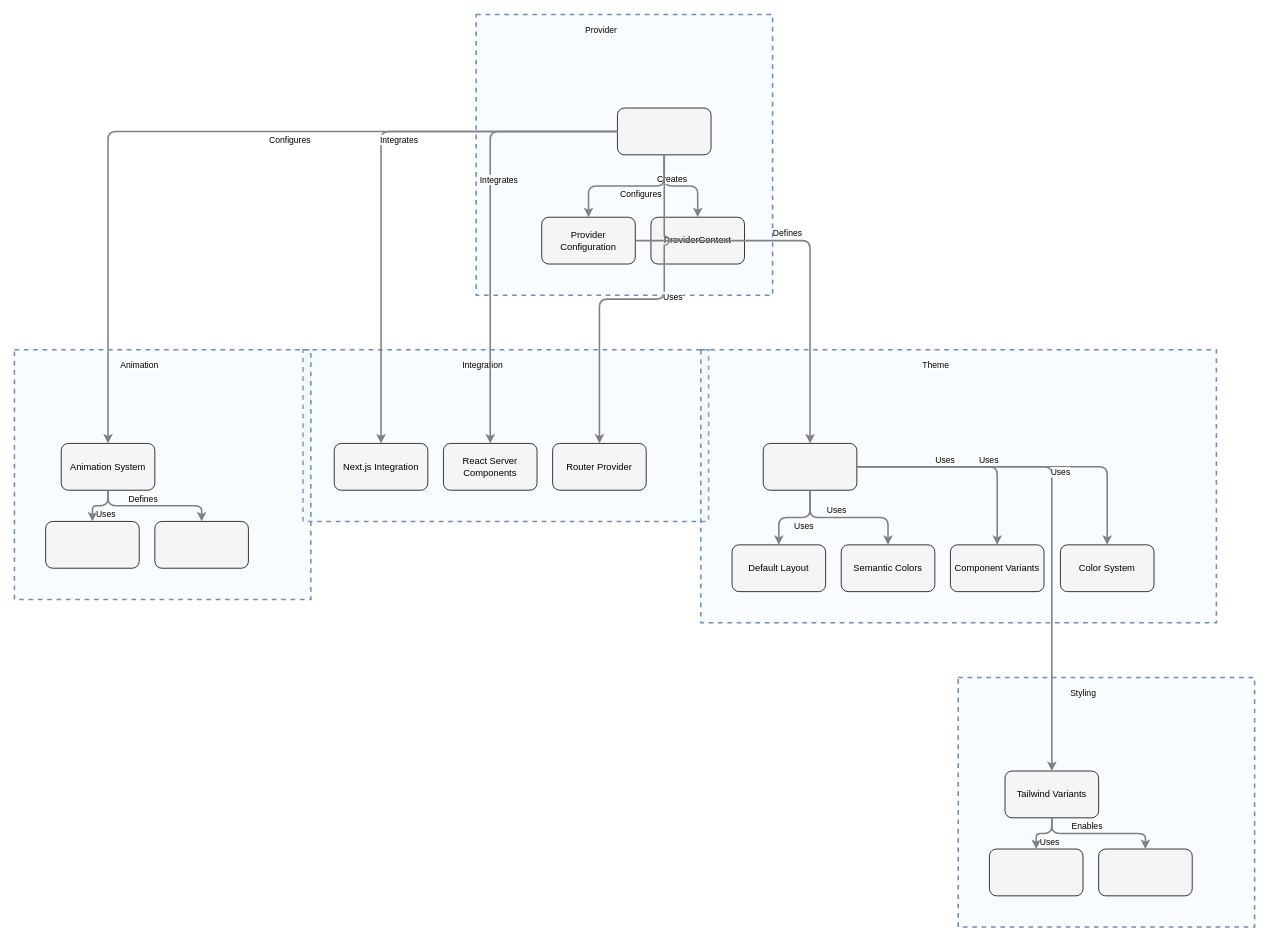
Image size: 1268x941. Some labels were removed from this diagram. The shapes that lost their labels are listed below. From the top down, each one's centre as x and y in pixels, then its label:
the point at 664,131: HeroUIProvider
the point at 809,466: Theme System
the point at 92,544: Motion Configuration
the point at 201,544: Transitions
the point at 1036,872: Class Name Merging
the point at 1145,872: Style Composition
